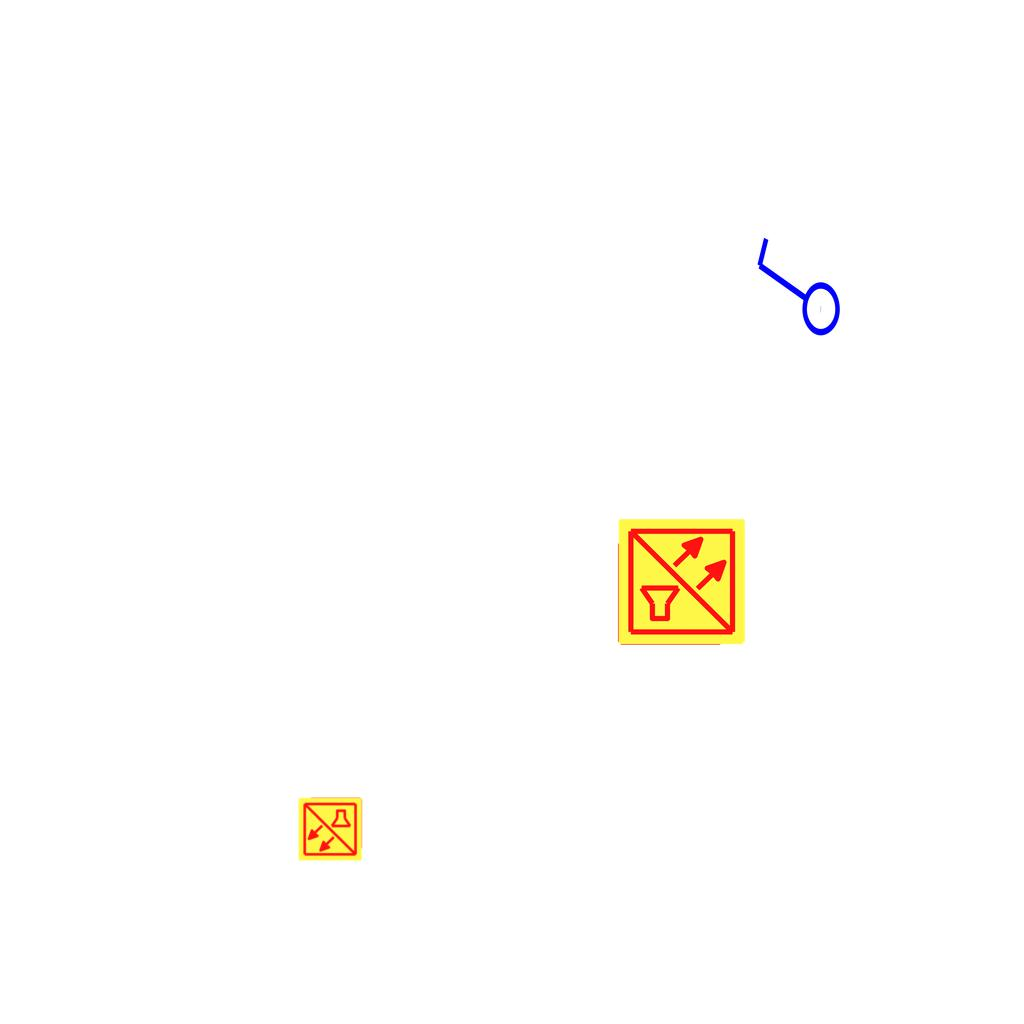Ausschalter: (747, 235, 843, 347)
OKW_Multisensormelder_(Kombination_optischer_Rauch-Kahlenmonoxid_Waerme-Melder): (616, 516, 748, 648), (297, 796, 363, 862)
